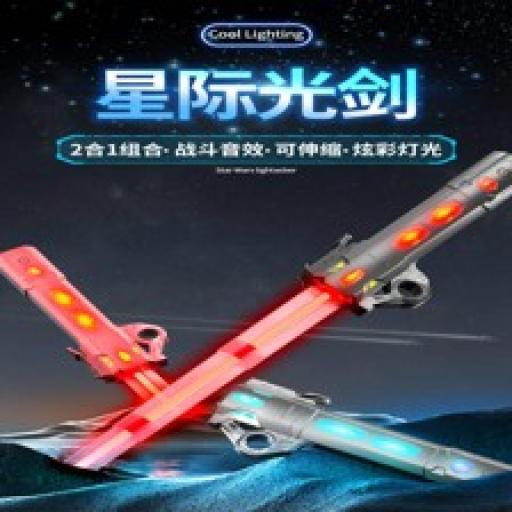sith saber: (57, 155, 512, 472)
